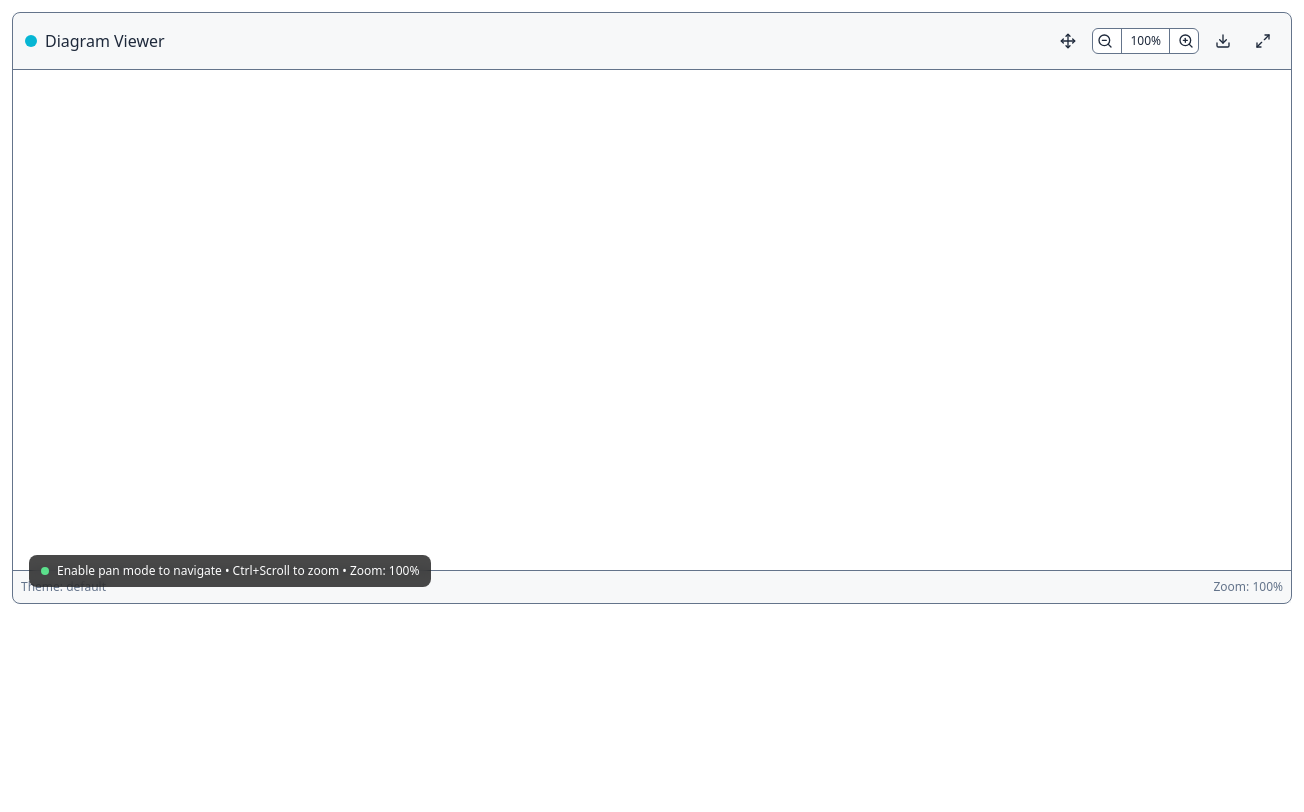
Test: DiagramViewer › should reset zoom and position
// First zoom in
Click the button titled "Zoom In" at [1186, 41], box x1=1174 y1=29 x2=1198 y2=53
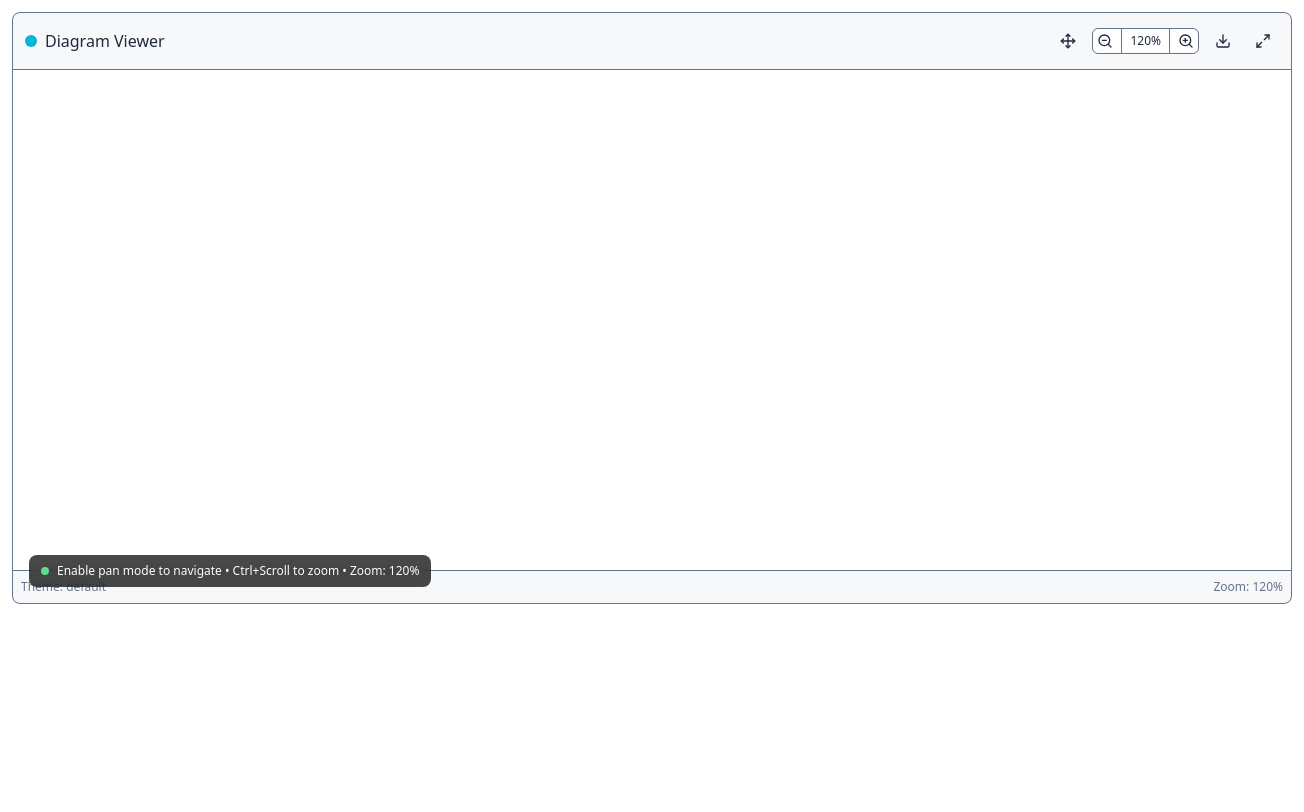
// Then reset
Click the button titled "Reset zoom and position" at [1146, 41], box x1=1121 y1=29 x2=1170 y2=53
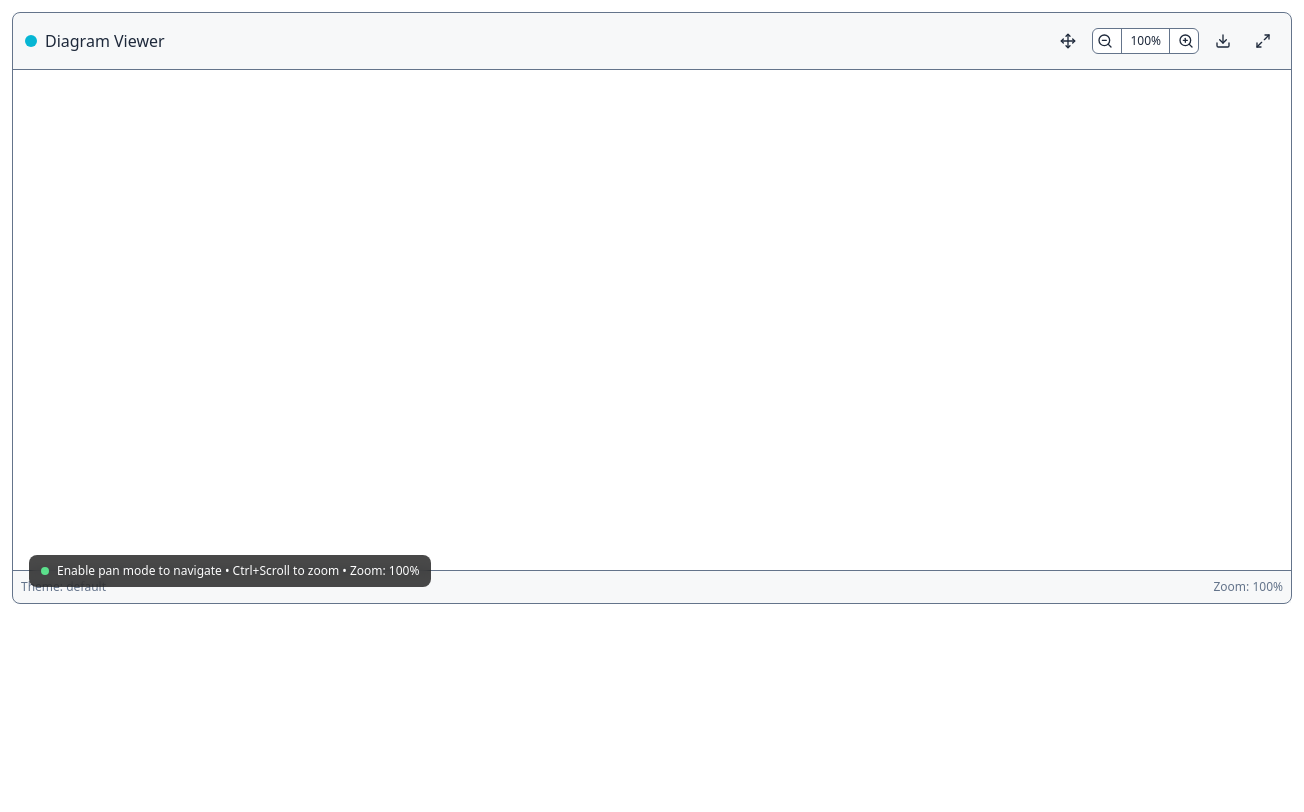
expect the button "100%" is shown: met, box x1=1121 y1=29 x2=1170 y2=53
